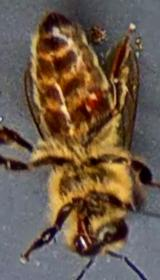varroa_mite: (73, 83, 111, 121)
